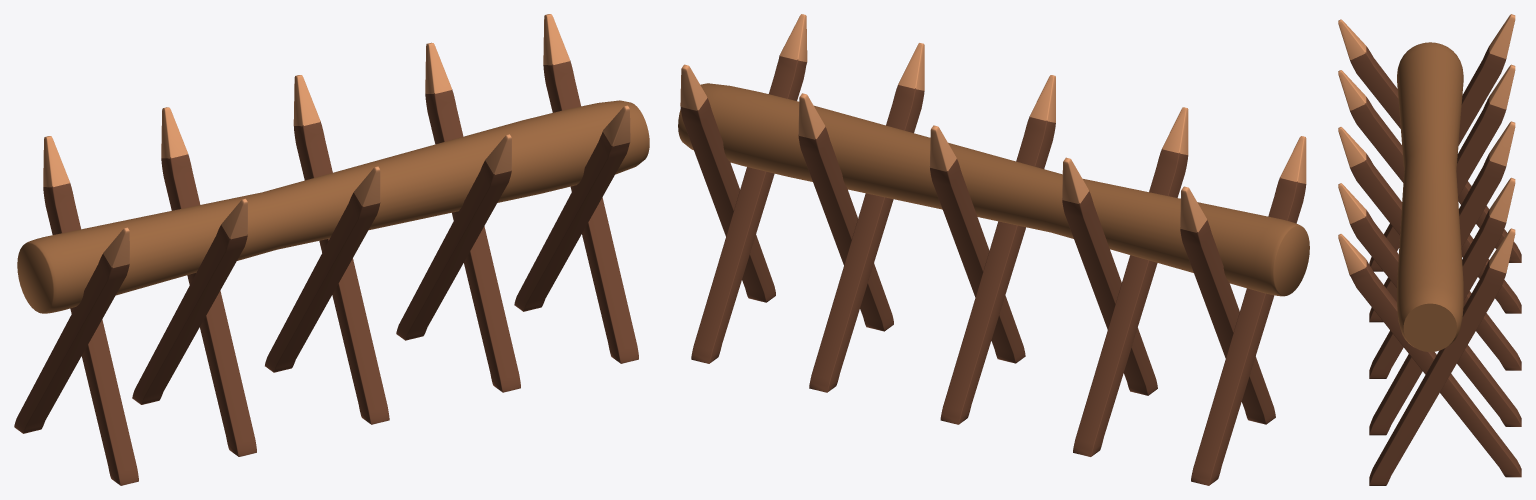
The model's file is woodBarikat.fbx.
3 renders of one model, left to right at view 1: azimuth 30°, elevation 25°; view 2: azimuth 150°, elevation 25°; view 3: azimuth 270°, elevation 25°, orthographic. The views are drawn at different scales.
Parts seen in each view (by area): view 1: woodBaric; view 2: woodBaric; view 3: woodBaric.
Boxes of the visible parts, x1=… form: woodBaric: x1=14, y1=14, x2=649, y2=485; woodBaric: x1=678, y1=14, x2=1309, y2=485; woodBaric: x1=1338, y1=14, x2=1521, y2=485.
Bounding box in the file's own units: 3.41 × 1.57 × 1.03.
